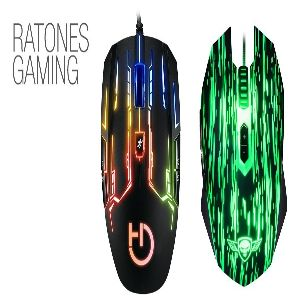mouse: (198, 26, 291, 288), (97, 28, 183, 292)
